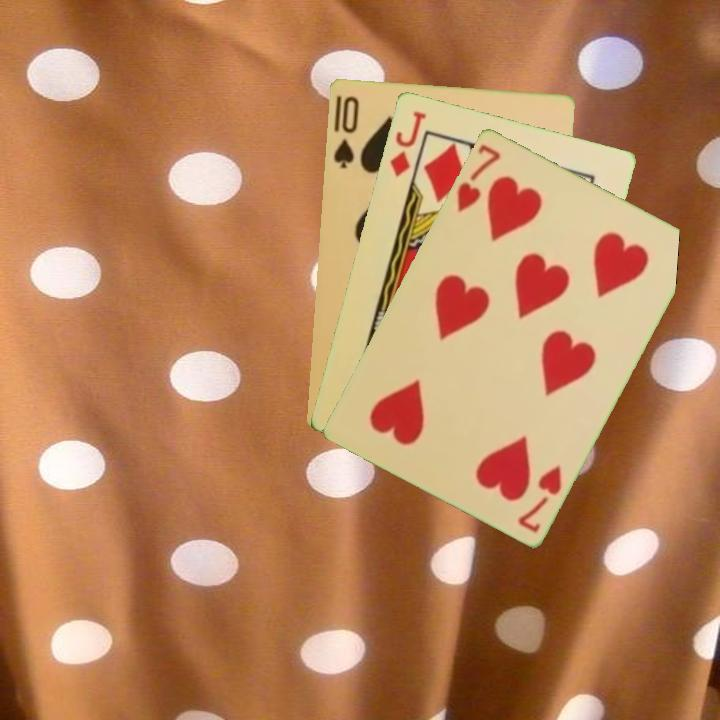10s: (329, 92, 361, 171)
7h: (513, 461, 565, 535), (453, 140, 503, 215)
Jd: (385, 107, 429, 180)
